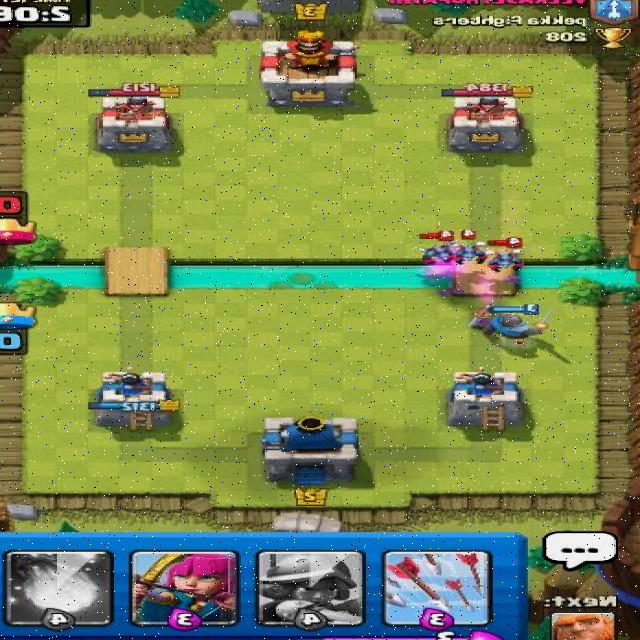Enemy-Minion: (482, 235, 530, 274), (414, 229, 462, 265), (449, 229, 489, 266)
Player-Knight: (477, 302, 558, 348)
